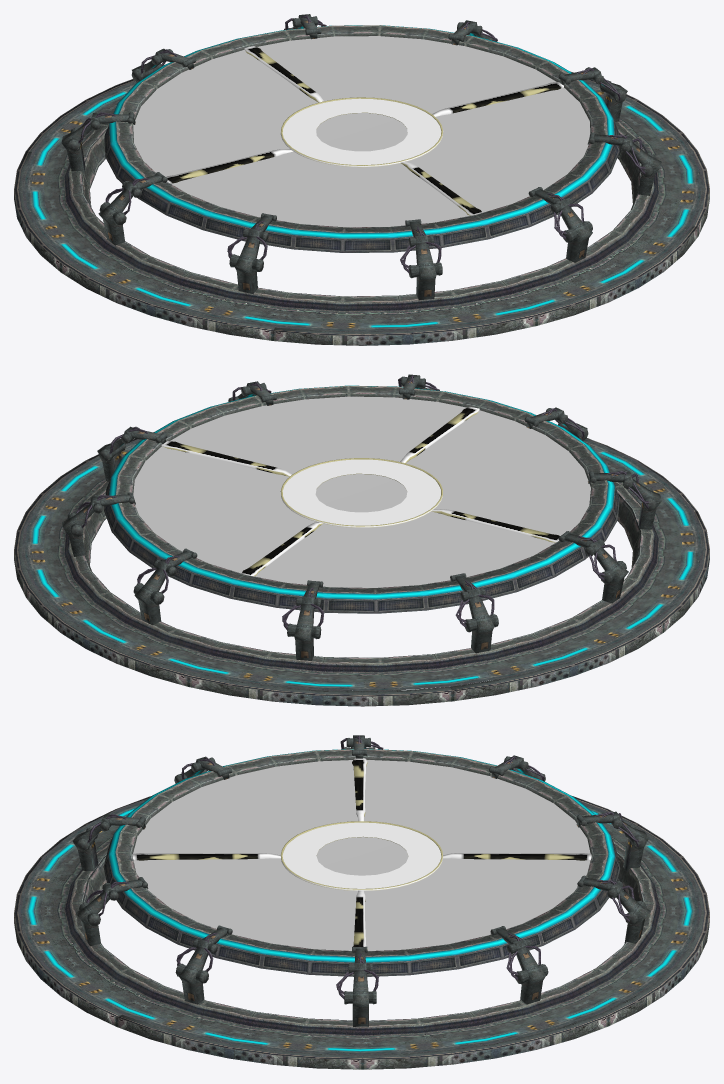
File: S_Build_Jidi088.FBX
3 renders of one model, top to bottom at view 1: azimuth 30°, elevation 25°; view 2: azimuth 150°, elevation 25°; view 3: azimuth 270°, elevation 25°, orthographic.
Visible parts, largest first — view 1: S_Build_Jidi088; view 2: S_Build_Jidi088; view 3: S_Build_Jidi088.
Part boxes in pixels (x1,y1,x2,y2): S_Build_Jidi088: (14,14,709,345); S_Build_Jidi088: (14,374,709,706); S_Build_Jidi088: (14,735,709,1069).
Bounding box in the file's own units: 6340 × 764 × 6340.
